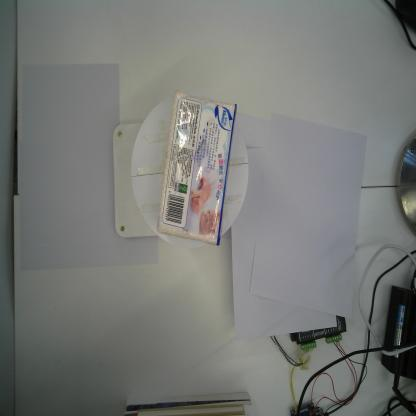Tissue: (155, 89, 238, 250)
